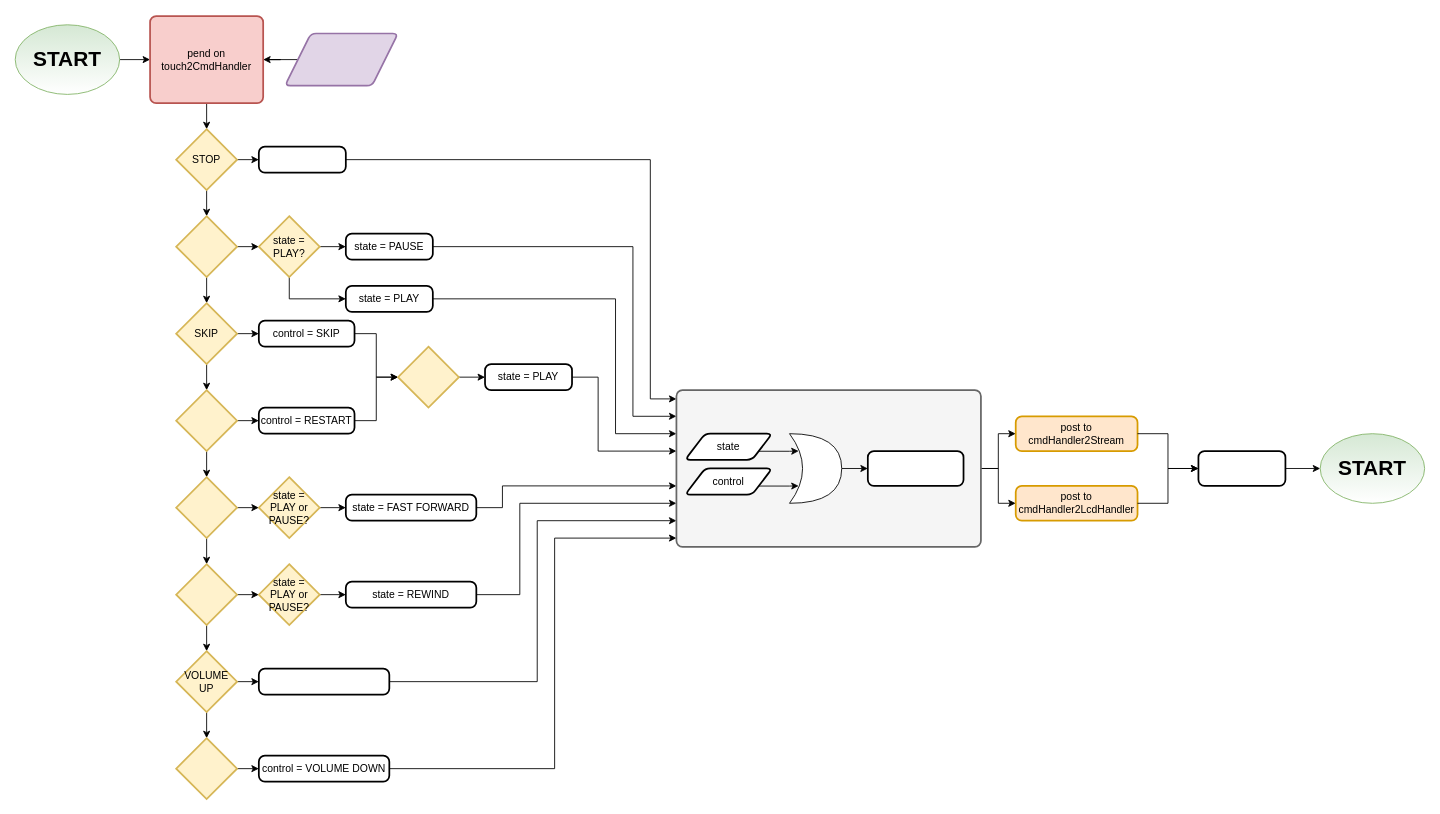
Image size: 1440x814. Some labels were removed from this diagram. Each missing label, with the centre of its shape:
"control = NONE" belongs at [1241,468].
"control = VOLUME UP" belongs at [324,681].
"FAST FORWARD" belongs at [206,507].
"message from touchPolling" belongs at [341,59].
"PLAY" belongs at [206,246].
"RESTART" belongs at [206,420].
"REWIND" belongs at [206,594].
"state = PAUSE?" belongs at [428,376].
"state = STOP" belongs at [302,159].
"stateAndControl" belongs at [915,468].
"VOLUME DOWN" belongs at [206,768].
